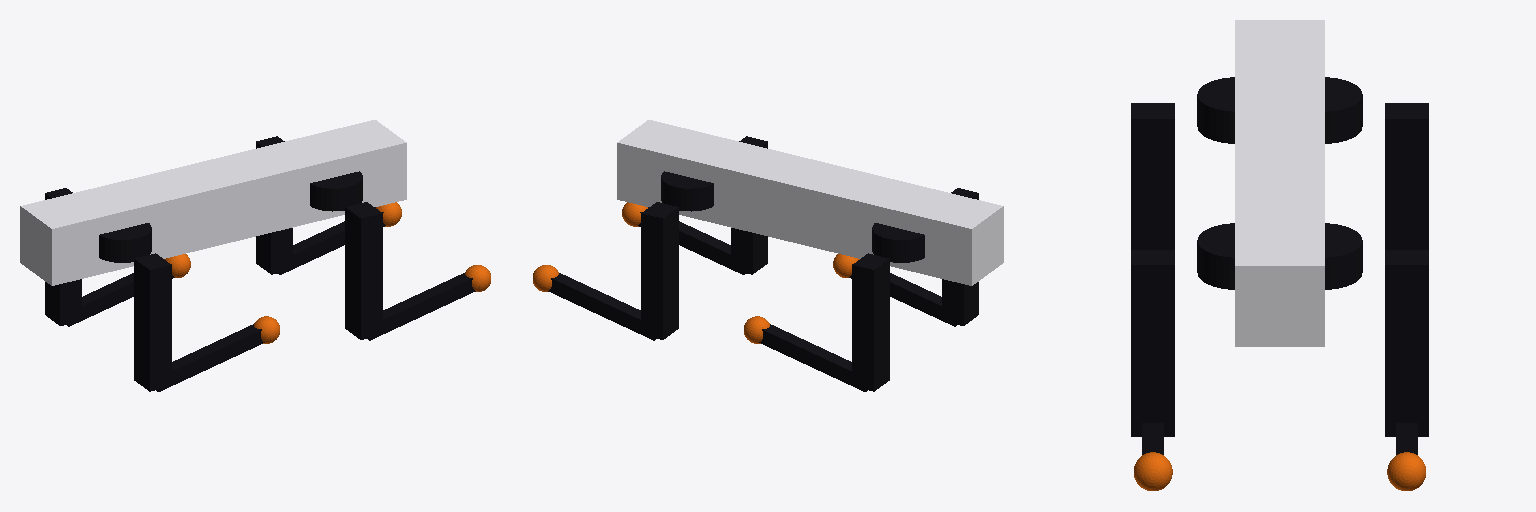
robot.urdf — unitree_go2:
<?xml version="1.0"?>
<!--
  Unitree Go2 quadruped (simplified, primitives-only).

  Topology: trunk root + 4 legs × (hip / thigh / calf) = 12 actuated DOF
  with one fixed foot per leg (16 joints total). Link sizing and masses
  follow Unitree's published Go2 specs (~15 kg, ~70 cm long, ~30 cm
  shoulder height standing).

  All <link> elements come before all <joint> elements — vcad's
  quick-xml-serde URDF reader does not tolerate interleaved siblings.
-->
<robot name="unitree_go2">

  <material name="go2_dark"><color rgba="0.10 0.10 0.12 1.0"/></material>
  <material name="go2_white"><color rgba="0.92 0.92 0.94 1.0"/></material>
  <material name="go2_accent"><color rgba="0.90 0.45 0.10 1.0"/></material>

  <!-- ================ Links ================ -->

  <!-- Trunk (root) -->
  <link name="trunk">
    <visual><geometry><box size="0.65 0.10 0.10"/></geometry><material name="go2_white"/></visual>
    <collision><geometry><box size="0.65 0.10 0.10"/></geometry></collision>
    <inertial><mass value="6.92"/><inertia ixx="0.012" ixy="0" ixz="0" iyy="0.13" iyz="0" izz="0.13"/></inertial>
  </link>

  <!-- Front-left leg -->
  <link name="FL_hip">
    <visual><geometry><cylinder radius="0.046" length="0.04"/></geometry><material name="go2_dark"/></visual>
    <collision><geometry><cylinder radius="0.046" length="0.04"/></geometry></collision>
    <inertial><mass value="0.68"/><inertia ixx="0.0008" ixy="0" ixz="0" iyy="0.0008" iyz="0" izz="0.0006"/></inertial>
  </link>
  <link name="FL_thigh">
    <visual><origin xyz="0 0 -0.107"/><geometry><box size="0.04 0.05 0.213"/></geometry><material name="go2_dark"/></visual>
    <collision><origin xyz="0 0 -0.107"/><geometry><box size="0.04 0.05 0.213"/></geometry></collision>
    <inertial><origin xyz="0 0 -0.107"/><mass value="1.15"/><inertia ixx="0.005" ixy="0" ixz="0" iyy="0.005" iyz="0" izz="0.0004"/></inertial>
  </link>
  <link name="FL_calf">
    <visual><origin xyz="0 0 -0.107"/><geometry><box size="0.025 0.025 0.213"/></geometry><material name="go2_dark"/></visual>
    <collision><origin xyz="0 0 -0.107"/><geometry><box size="0.025 0.025 0.213"/></geometry></collision>
    <inertial><origin xyz="0 0 -0.107"/><mass value="0.16"/><inertia ixx="0.0008" ixy="0" ixz="0" iyy="0.0008" iyz="0" izz="0.00006"/></inertial>
  </link>
  <link name="FL_foot">
    <visual><geometry><sphere radius="0.022"/></geometry><material name="go2_accent"/></visual>
    <collision><geometry><sphere radius="0.022"/></geometry></collision>
    <inertial><mass value="0.06"/><inertia ixx="0.00002" ixy="0" ixz="0" iyy="0.00002" iyz="0" izz="0.00002"/></inertial>
  </link>

  <!-- Front-right leg -->
  <link name="FR_hip">
    <visual><geometry><cylinder radius="0.046" length="0.04"/></geometry><material name="go2_dark"/></visual>
    <collision><geometry><cylinder radius="0.046" length="0.04"/></geometry></collision>
    <inertial><mass value="0.68"/><inertia ixx="0.0008" ixy="0" ixz="0" iyy="0.0008" iyz="0" izz="0.0006"/></inertial>
  </link>
  <link name="FR_thigh">
    <visual><origin xyz="0 0 -0.107"/><geometry><box size="0.04 0.05 0.213"/></geometry><material name="go2_dark"/></visual>
    <collision><origin xyz="0 0 -0.107"/><geometry><box size="0.04 0.05 0.213"/></geometry></collision>
    <inertial><origin xyz="0 0 -0.107"/><mass value="1.15"/><inertia ixx="0.005" ixy="0" ixz="0" iyy="0.005" iyz="0" izz="0.0004"/></inertial>
  </link>
  <link name="FR_calf">
    <visual><origin xyz="0 0 -0.107"/><geometry><box size="0.025 0.025 0.213"/></geometry><material name="go2_dark"/></visual>
    <collision><origin xyz="0 0 -0.107"/><geometry><box size="0.025 0.025 0.213"/></geometry></collision>
    <inertial><origin xyz="0 0 -0.107"/><mass value="0.16"/><inertia ixx="0.0008" ixy="0" ixz="0" iyy="0.0008" iyz="0" izz="0.00006"/></inertial>
  </link>
  <link name="FR_foot">
    <visual><geometry><sphere radius="0.022"/></geometry><material name="go2_accent"/></visual>
    <collision><geometry><sphere radius="0.022"/></geometry></collision>
    <inertial><mass value="0.06"/><inertia ixx="0.00002" ixy="0" ixz="0" iyy="0.00002" iyz="0" izz="0.00002"/></inertial>
  </link>

  <!-- Rear-left leg -->
  <link name="RL_hip">
    <visual><geometry><cylinder radius="0.046" length="0.04"/></geometry><material name="go2_dark"/></visual>
    <collision><geometry><cylinder radius="0.046" length="0.04"/></geometry></collision>
    <inertial><mass value="0.68"/><inertia ixx="0.0008" ixy="0" ixz="0" iyy="0.0008" iyz="0" izz="0.0006"/></inertial>
  </link>
  <link name="RL_thigh">
    <visual><origin xyz="0 0 -0.107"/><geometry><box size="0.04 0.05 0.213"/></geometry><material name="go2_dark"/></visual>
    <collision><origin xyz="0 0 -0.107"/><geometry><box size="0.04 0.05 0.213"/></geometry></collision>
    <inertial><origin xyz="0 0 -0.107"/><mass value="1.15"/><inertia ixx="0.005" ixy="0" ixz="0" iyy="0.005" iyz="0" izz="0.0004"/></inertial>
  </link>
  <link name="RL_calf">
    <visual><origin xyz="0 0 -0.107"/><geometry><box size="0.025 0.025 0.213"/></geometry><material name="go2_dark"/></visual>
    <collision><origin xyz="0 0 -0.107"/><geometry><box size="0.025 0.025 0.213"/></geometry></collision>
    <inertial><origin xyz="0 0 -0.107"/><mass value="0.16"/><inertia ixx="0.0008" ixy="0" ixz="0" iyy="0.0008" iyz="0" izz="0.00006"/></inertial>
  </link>
  <link name="RL_foot">
    <visual><geometry><sphere radius="0.022"/></geometry><material name="go2_accent"/></visual>
    <collision><geometry><sphere radius="0.022"/></geometry></collision>
    <inertial><mass value="0.06"/><inertia ixx="0.00002" ixy="0" ixz="0" iyy="0.00002" iyz="0" izz="0.00002"/></inertial>
  </link>

  <!-- Rear-right leg -->
  <link name="RR_hip">
    <visual><geometry><cylinder radius="0.046" length="0.04"/></geometry><material name="go2_dark"/></visual>
    <collision><geometry><cylinder radius="0.046" length="0.04"/></geometry></collision>
    <inertial><mass value="0.68"/><inertia ixx="0.0008" ixy="0" ixz="0" iyy="0.0008" iyz="0" izz="0.0006"/></inertial>
  </link>
  <link name="RR_thigh">
    <visual><origin xyz="0 0 -0.107"/><geometry><box size="0.04 0.05 0.213"/></geometry><material name="go2_dark"/></visual>
    <collision><origin xyz="0 0 -0.107"/><geometry><box size="0.04 0.05 0.213"/></geometry></collision>
    <inertial><origin xyz="0 0 -0.107"/><mass value="1.15"/><inertia ixx="0.005" ixy="0" ixz="0" iyy="0.005" iyz="0" izz="0.0004"/></inertial>
  </link>
  <link name="RR_calf">
    <visual><origin xyz="0 0 -0.107"/><geometry><box size="0.025 0.025 0.213"/></geometry><material name="go2_dark"/></visual>
    <collision><origin xyz="0 0 -0.107"/><geometry><box size="0.025 0.025 0.213"/></geometry></collision>
    <inertial><origin xyz="0 0 -0.107"/><mass value="0.16"/><inertia ixx="0.0008" ixy="0" ixz="0" iyy="0.0008" iyz="0" izz="0.00006"/></inertial>
  </link>
  <link name="RR_foot">
    <visual><geometry><sphere radius="0.022"/></geometry><material name="go2_accent"/></visual>
    <collision><geometry><sphere radius="0.022"/></geometry></collision>
    <inertial><mass value="0.06"/><inertia ixx="0.00002" ixy="0" ixz="0" iyy="0.00002" iyz="0" izz="0.00002"/></inertial>
  </link>

  <!-- ================ Joints ================ -->

  <!-- Front-left -->
  <joint name="FL_hip_joint" type="revolute">
    <parent link="trunk"/>
    <child link="FL_hip"/>
    <origin xyz="0.1934 0.0465 0" rpy="0 0 0"/>
    <axis xyz="1 0 0"/>
    <limit lower="-1.0472" upper="1.0472" effort="23.7" velocity="30.1"/>
  </joint>
  <joint name="FL_thigh_joint" type="revolute">
    <parent link="FL_hip"/>
    <child link="FL_thigh"/>
    <origin xyz="0 0.0955 0" rpy="0 0 0"/>
    <axis xyz="0 1 0"/>
    <limit lower="-1.5708" upper="3.4907" effort="23.7" velocity="30.1"/>
  </joint>
  <joint name="FL_calf_joint" type="revolute">
    <parent link="FL_thigh"/>
    <child link="FL_calf"/>
    <origin xyz="0 0 -0.213" rpy="0 0 0"/>
    <axis xyz="0 1 0"/>
    <limit lower="-2.7227" upper="-0.83776" effort="35.55" velocity="20.07"/>
  </joint>
  <joint name="FL_foot_fixed_joint" type="fixed">
    <parent link="FL_calf"/>
    <child link="FL_foot"/>
    <origin xyz="0 0 -0.213" rpy="0 0 0"/>
  </joint>

  <!-- Front-right -->
  <joint name="FR_hip_joint" type="revolute">
    <parent link="trunk"/>
    <child link="FR_hip"/>
    <origin xyz="0.1934 -0.0465 0" rpy="0 0 0"/>
    <axis xyz="1 0 0"/>
    <limit lower="-1.0472" upper="1.0472" effort="23.7" velocity="30.1"/>
  </joint>
  <joint name="FR_thigh_joint" type="revolute">
    <parent link="FR_hip"/>
    <child link="FR_thigh"/>
    <origin xyz="0 -0.0955 0" rpy="0 0 0"/>
    <axis xyz="0 1 0"/>
    <limit lower="-1.5708" upper="3.4907" effort="23.7" velocity="30.1"/>
  </joint>
  <joint name="FR_calf_joint" type="revolute">
    <parent link="FR_thigh"/>
    <child link="FR_calf"/>
    <origin xyz="0 0 -0.213" rpy="0 0 0"/>
    <axis xyz="0 1 0"/>
    <limit lower="-2.7227" upper="-0.83776" effort="35.55" velocity="20.07"/>
  </joint>
  <joint name="FR_foot_fixed_joint" type="fixed">
    <parent link="FR_calf"/>
    <child link="FR_foot"/>
    <origin xyz="0 0 -0.213" rpy="0 0 0"/>
  </joint>

  <!-- Rear-left -->
  <joint name="RL_hip_joint" type="revolute">
    <parent link="trunk"/>
    <child link="RL_hip"/>
    <origin xyz="-0.1934 0.0465 0" rpy="0 0 0"/>
    <axis xyz="1 0 0"/>
    <limit lower="-1.0472" upper="1.0472" effort="23.7" velocity="30.1"/>
  </joint>
  <joint name="RL_thigh_joint" type="revolute">
    <parent link="RL_hip"/>
    <child link="RL_thigh"/>
    <origin xyz="0 0.0955 0" rpy="0 0 0"/>
    <axis xyz="0 1 0"/>
    <limit lower="-0.5236" upper="4.5379" effort="23.7" velocity="30.1"/>
  </joint>
  <joint name="RL_calf_joint" type="revolute">
    <parent link="RL_thigh"/>
    <child link="RL_calf"/>
    <origin xyz="0 0 -0.213" rpy="0 0 0"/>
    <axis xyz="0 1 0"/>
    <limit lower="-2.7227" upper="-0.83776" effort="35.55" velocity="20.07"/>
  </joint>
  <joint name="RL_foot_fixed_joint" type="fixed">
    <parent link="RL_calf"/>
    <child link="RL_foot"/>
    <origin xyz="0 0 -0.213" rpy="0 0 0"/>
  </joint>

  <!-- Rear-right -->
  <joint name="RR_hip_joint" type="revolute">
    <parent link="trunk"/>
    <child link="RR_hip"/>
    <origin xyz="-0.1934 -0.0465 0" rpy="0 0 0"/>
    <axis xyz="1 0 0"/>
    <limit lower="-1.0472" upper="1.0472" effort="23.7" velocity="30.1"/>
  </joint>
  <joint name="RR_thigh_joint" type="revolute">
    <parent link="RR_hip"/>
    <child link="RR_thigh"/>
    <origin xyz="0 -0.0955 0" rpy="0 0 0"/>
    <axis xyz="0 1 0"/>
    <limit lower="-0.5236" upper="4.5379" effort="23.7" velocity="30.1"/>
  </joint>
  <joint name="RR_calf_joint" type="revolute">
    <parent link="RR_thigh"/>
    <child link="RR_calf"/>
    <origin xyz="0 0 -0.213" rpy="0 0 0"/>
    <axis xyz="0 1 0"/>
    <limit lower="-2.7227" upper="-0.83776" effort="35.55" velocity="20.07"/>
  </joint>
  <joint name="RR_foot_fixed_joint" type="fixed">
    <parent link="RR_calf"/>
    <child link="RR_foot"/>
    <origin xyz="0 0 -0.213" rpy="0 0 0"/>
  </joint>

</robot>

--- Facts derived from the render (not from the file) ---
3 views of the same robot in one strip: view 1: azimuth 30°, elevation 25°; view 2: azimuth 150°, elevation 25°; view 3: azimuth 270°, elevation 25° (orthographic).
Model unitree_go2 with 17 links and 16 joints (12 revolute, 4 fixed), rooted at trunk, posed all joints at 0 but 4 set to mid-range because 0 is outside their limits (FL_calf_joint = -1.78, FR_calf_joint = -1.78, RL_calf_joint = -1.78, RR_calf_joint = -1.78).
Visible links, largest first — view 1: trunk, FR_thigh, RR_thigh, RR_calf, FR_calf, RR_hip, FR_hip, RL_thigh, FL_thigh, FL_calf, RL_calf; view 2: trunk, FL_thigh, RL_thigh, RL_calf, FL_calf, RL_hip, FL_hip, RR_thigh, FR_thigh, FR_calf, RR_calf; view 3: trunk, FL_thigh, FR_thigh, RL_thigh, RR_thigh, FL_hip, FR_hip, RL_hip, RR_hip, FL_foot, FR_foot, FL_calf (+1 smaller).
Link boxes in pixels (x1=…): trunk: x1=20, y1=120, x2=406, y2=285; FR_thigh: x1=345, y1=202, x2=382, y2=339; RR_thigh: x1=134, y1=253, x2=171, y2=391; RR_calf: x1=156, y1=324, x2=264, y2=391; FR_calf: x1=368, y1=273, x2=475, y2=340; RR_hip: x1=99, y1=223, x2=151, y2=262; FR_hip: x1=310, y1=171, x2=362, y2=211; RL_thigh: x1=45, y1=188, x2=81, y2=325; FL_thigh: x1=256, y1=136, x2=292, y2=274; FL_calf: x1=277, y1=207, x2=385, y2=274; RL_calf: x1=67, y1=264, x2=174, y2=326; trunk: x1=617, y1=120, x2=1003, y2=285; FL_thigh: x1=641, y1=202, x2=678, y2=339; RL_thigh: x1=852, y1=253, x2=889, y2=391; RL_calf: x1=759, y1=324, x2=867, y2=391; FL_calf: x1=548, y1=273, x2=655, y2=340; RL_hip: x1=872, y1=223, x2=924, y2=262; FL_hip: x1=661, y1=171, x2=713, y2=211; RR_thigh: x1=942, y1=188, x2=978, y2=325; FR_thigh: x1=731, y1=136, x2=767, y2=274; FR_calf: x1=638, y1=207, x2=746, y2=274; RR_calf: x1=849, y1=264, x2=956, y2=326; trunk: x1=1235, y1=20, x2=1324, y2=346; FL_thigh: x1=1385, y1=250, x2=1428, y2=436; FR_thigh: x1=1131, y1=250, x2=1174, y2=436; RL_thigh: x1=1385, y1=103, x2=1428, y2=249; RR_thigh: x1=1131, y1=103, x2=1174, y2=249; FL_hip: x1=1325, y1=223, x2=1362, y2=289; FR_hip: x1=1197, y1=223, x2=1234, y2=289; RL_hip: x1=1325, y1=77, x2=1362, y2=143; RR_hip: x1=1197, y1=77, x2=1234, y2=143; FL_foot: x1=1387, y1=452, x2=1425, y2=490; FR_foot: x1=1134, y1=452, x2=1172, y2=490; FL_calf: x1=1396, y1=423, x2=1417, y2=454.
Size in the robot's own frame: 0.7487 by 0.334 by 0.2751 metres.
Geometry: primitives only (box / cylinder / sphere), no mesh files.
